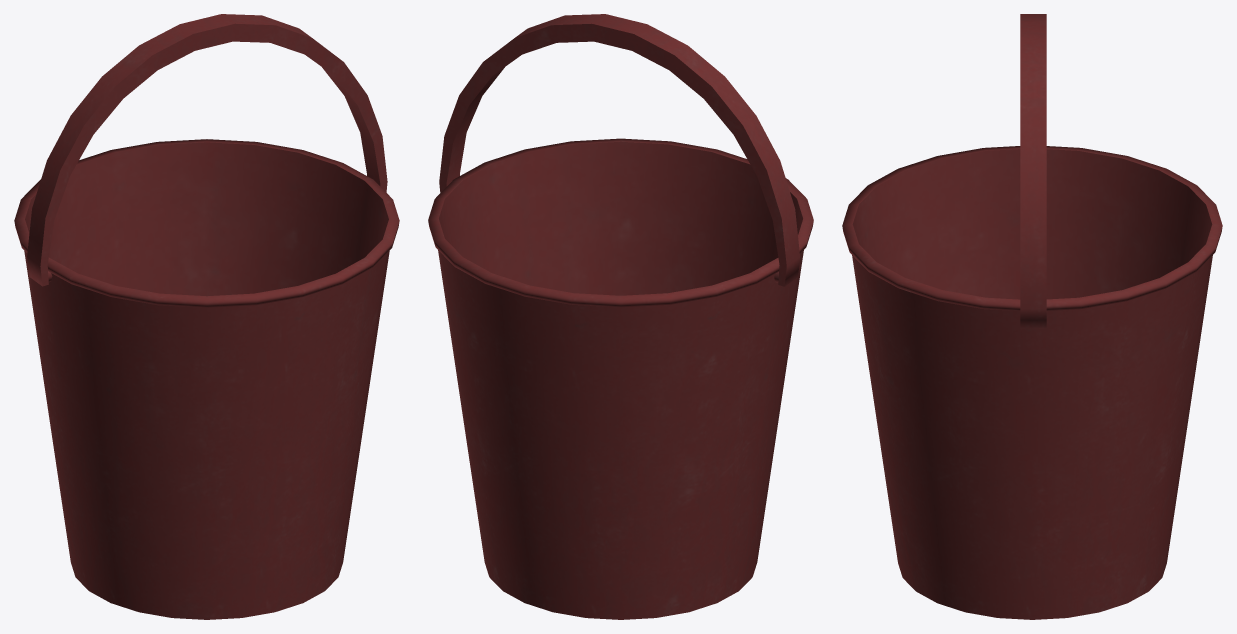
The model's file is Bucket.fbx.
3 renders of one model, left to right at view 1: azimuth 30°, elevation 25°; view 2: azimuth 150°, elevation 25°; view 3: azimuth 270°, elevation 25°, orthographic.
Parts seen in each view (by area): view 1: Bucket; view 2: Bucket; view 3: Bucket.
Boxes of the visible parts, x1,y1,x2,y2 form: Bucket: (14, 14, 399, 619); Bucket: (428, 14, 813, 619); Bucket: (842, 14, 1222, 619).
Bounding box in the file's own units: 37.44 × 55.43 × 35.98.
